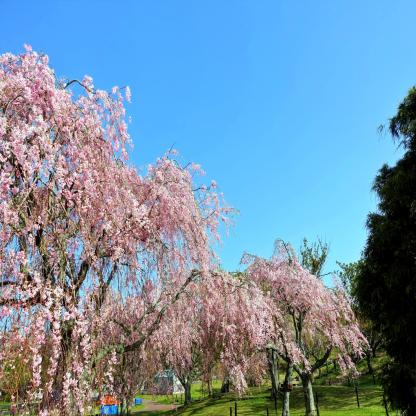ShidareZakura: (0, 41, 241, 416), (146, 237, 373, 408)
